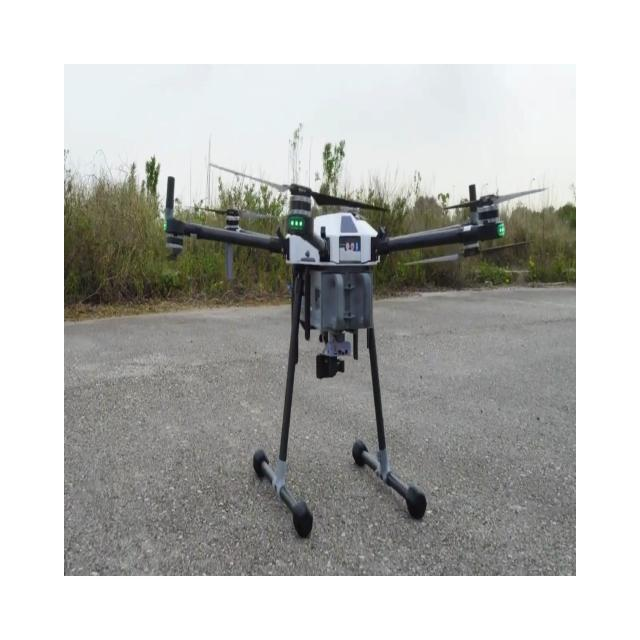drone: (162, 161, 548, 538)
